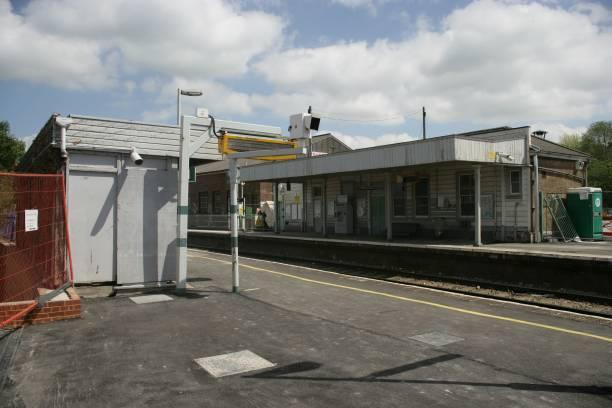camera: (280, 102, 331, 151), (112, 141, 148, 173), (492, 147, 517, 169)
